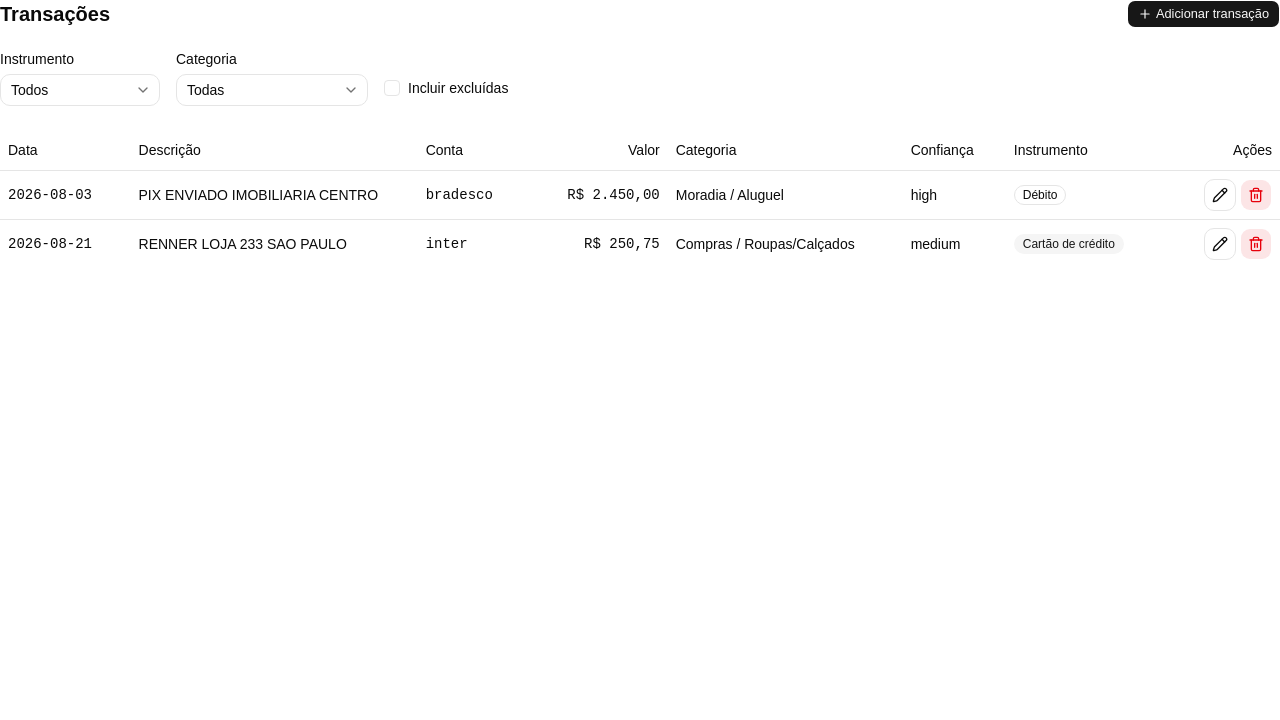
Test: TransactionsPage › shows the error message when adding a transaction fails
Click the button "Adicionar transação" at coordinates (1203, 14), box [1127,0,1279,28]
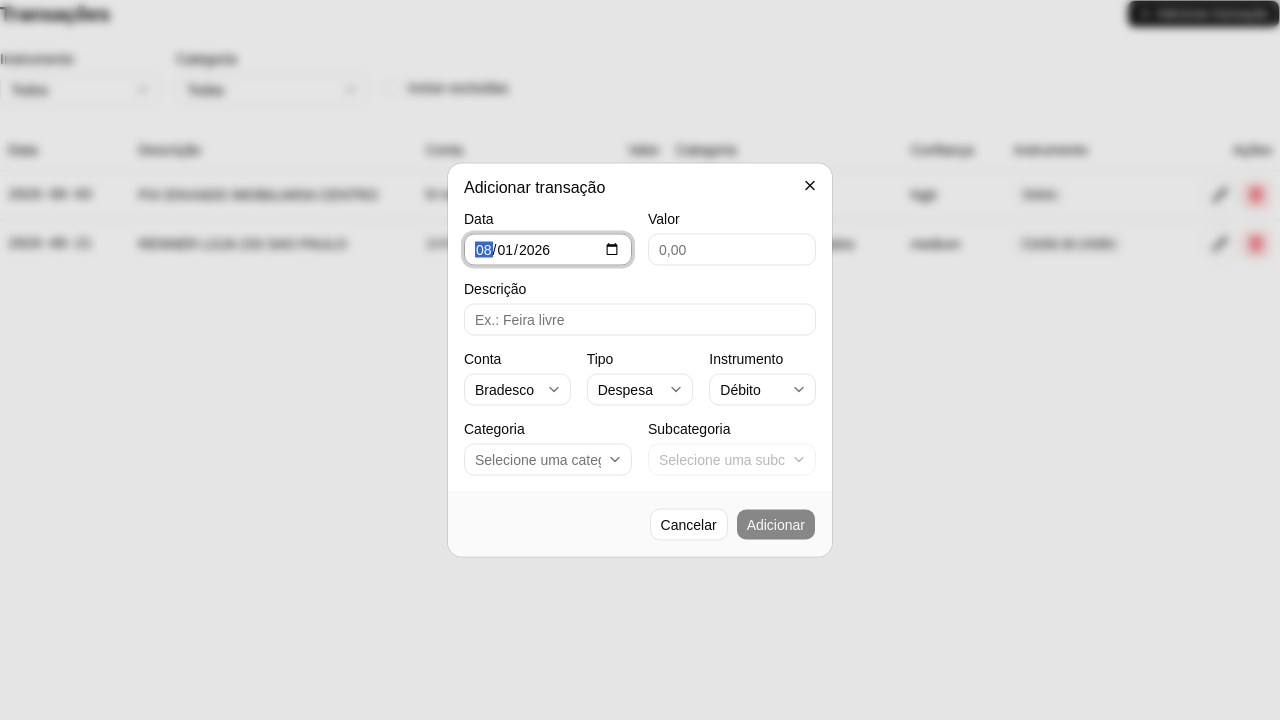
Type "Algo" into the field labelled "Descrição" at coordinates (640, 320), box [464,304,816,336]
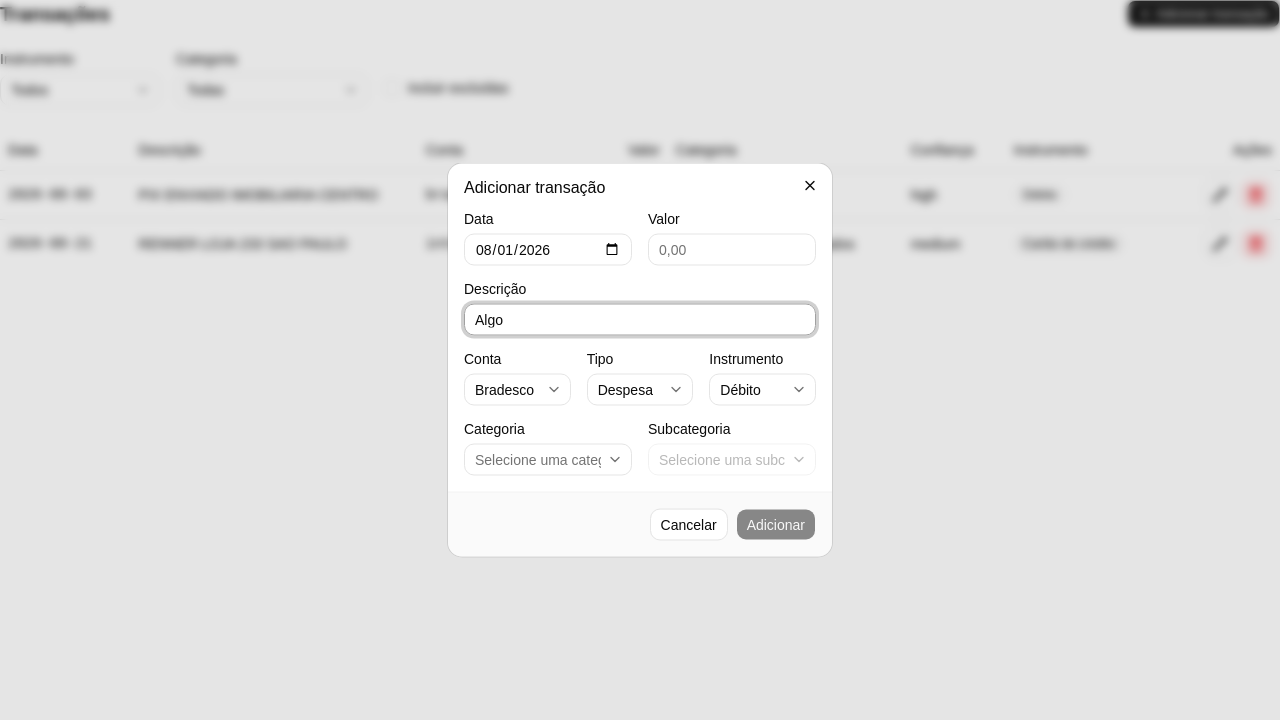
Type "10" into the number field labelled "Valor" at coordinates (732, 250), box [648,234,816,266]
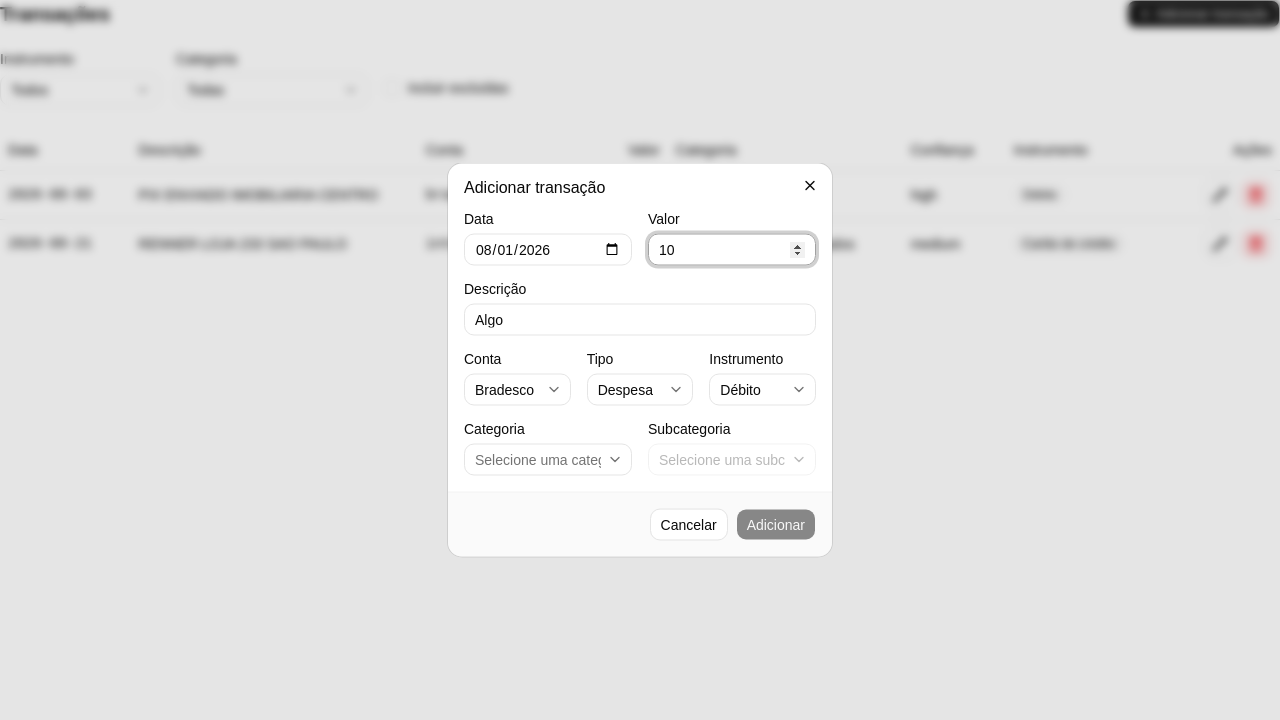
Click the dropdown labelled "categoria" at coordinates (548, 460), box [464,444,632,476]
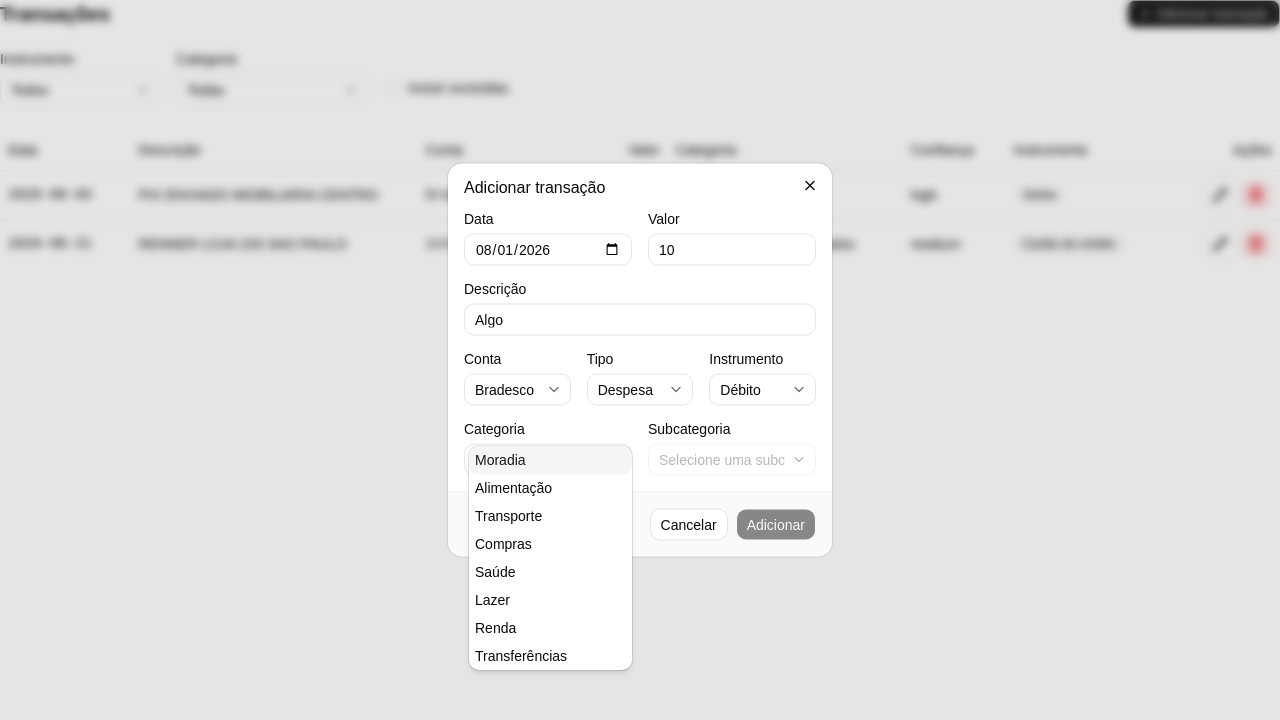
Click the option "Transferências" at coordinates (521, 656), box [475,648,567,664]
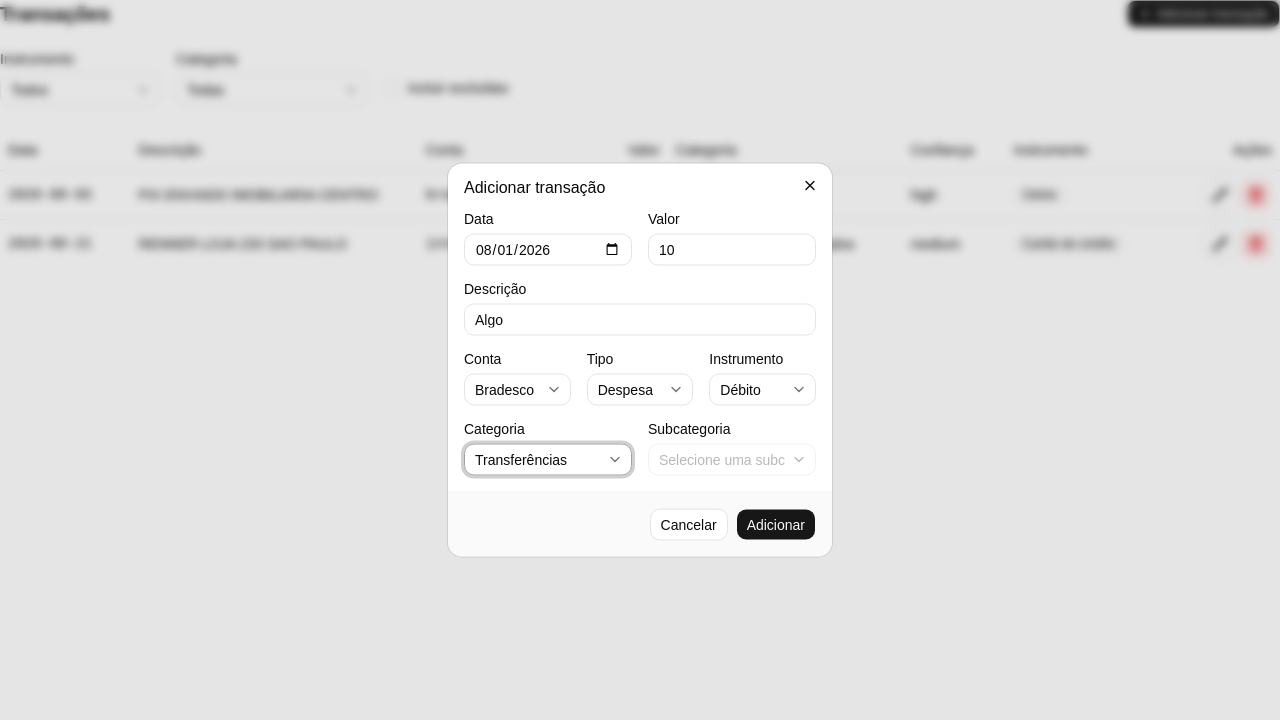
Click the button "Adicionar" at coordinates (776, 524), box [736,508,816,540]
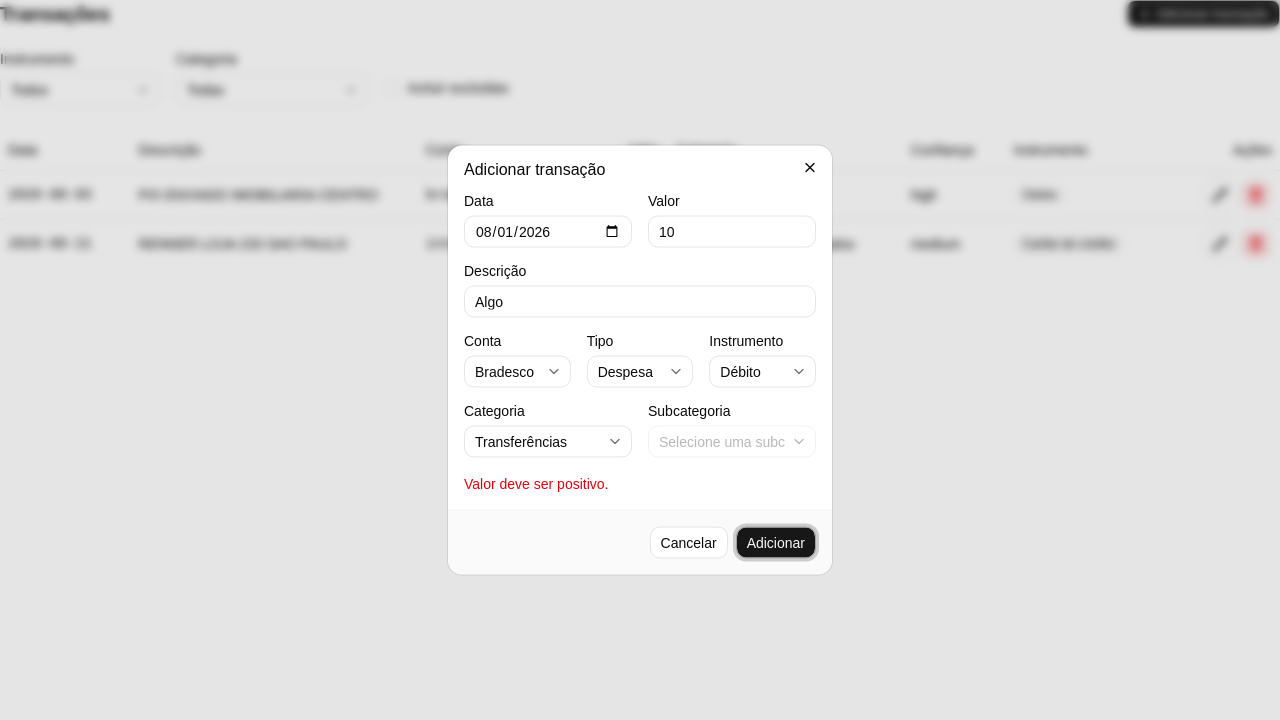
Expected: the text "Valor deve ser positivo." is shown, [464,476,608,492]
